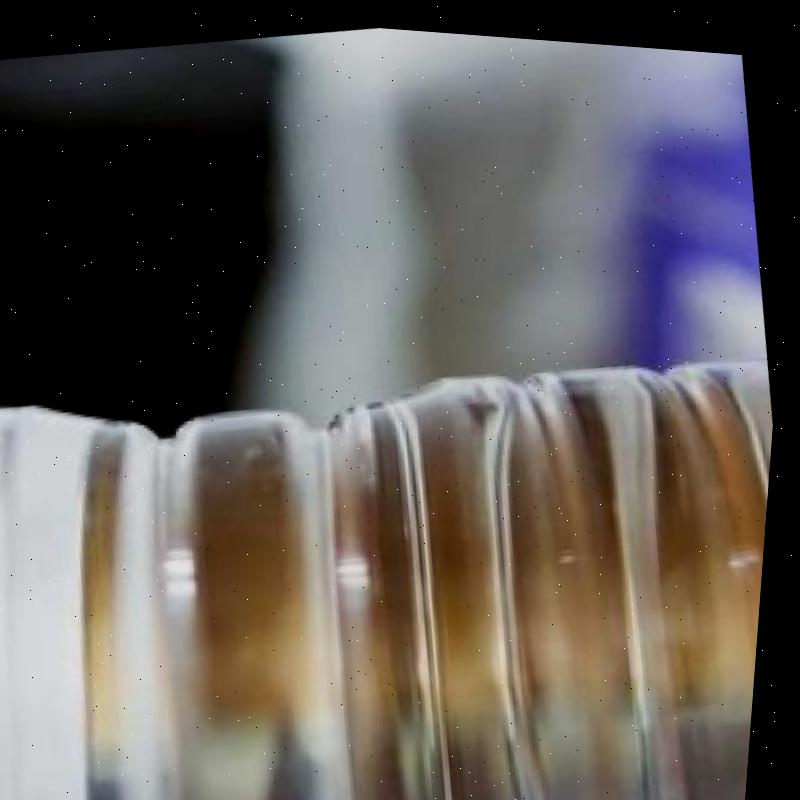botella: (0, 282, 784, 800)
